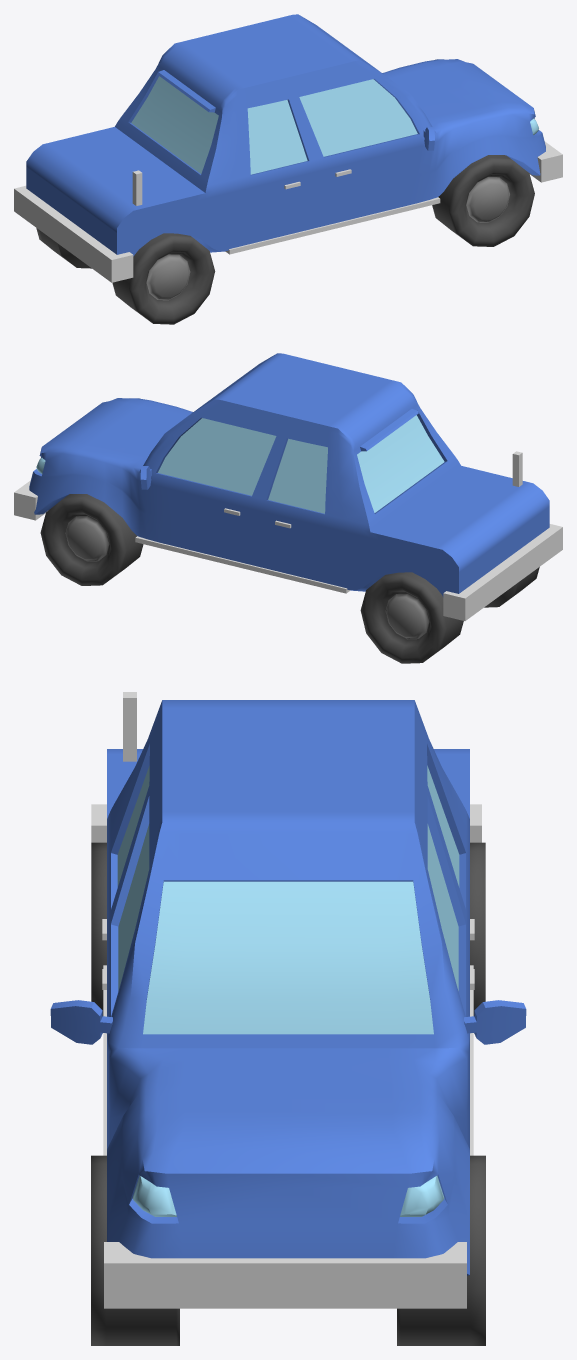
Rendered from Car.fbx.
3 renders of one model, top to bottom at view 1: azimuth 30°, elevation 25°; view 2: azimuth 150°, elevation 25°; view 3: azimuth 270°, elevation 25°, orthographic. The views are drawn at different scales.
Parts seen in each view (by area): view 1: Cube.003, TirefrontRight, TireBackRight, TireBackLeft; view 2: Cube.003, TireFrontLeft, TireBackLeft, TireBackRight; view 3: Cube.003, TireFrontLeft, TirefrontRight, TireBackRight, TireBackLeft.
Part boxes in pixels (x1,y1,x2,y2): Cube.003: (14, 14, 562, 282); TirefrontRight: (432, 155, 534, 246); TireBackRight: (112, 233, 215, 324); TireBackLeft: (36, 228, 91, 268); Cube.003: (14, 353, 562, 620); TireFrontLeft: (40, 494, 143, 585); TireBackLeft: (360, 572, 463, 663); TireBackRight: (484, 567, 539, 607); Cube.003: (50, 692, 526, 1308); TireFrontLeft: (397, 1155, 485, 1345); TirefrontRight: (91, 1155, 179, 1345); TireBackRight: (91, 842, 106, 1015); TireBackLeft: (470, 842, 485, 1015).
Size of the model in its own units: 367 by 156 by 166.
